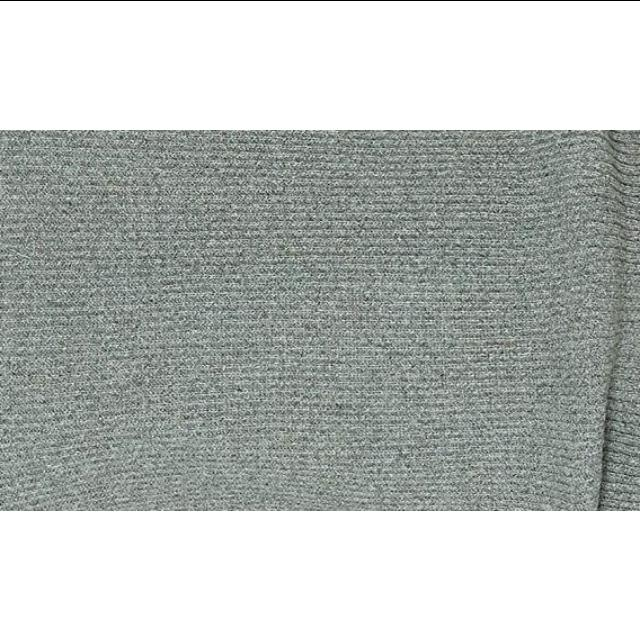wool: (0, 130, 640, 510)
